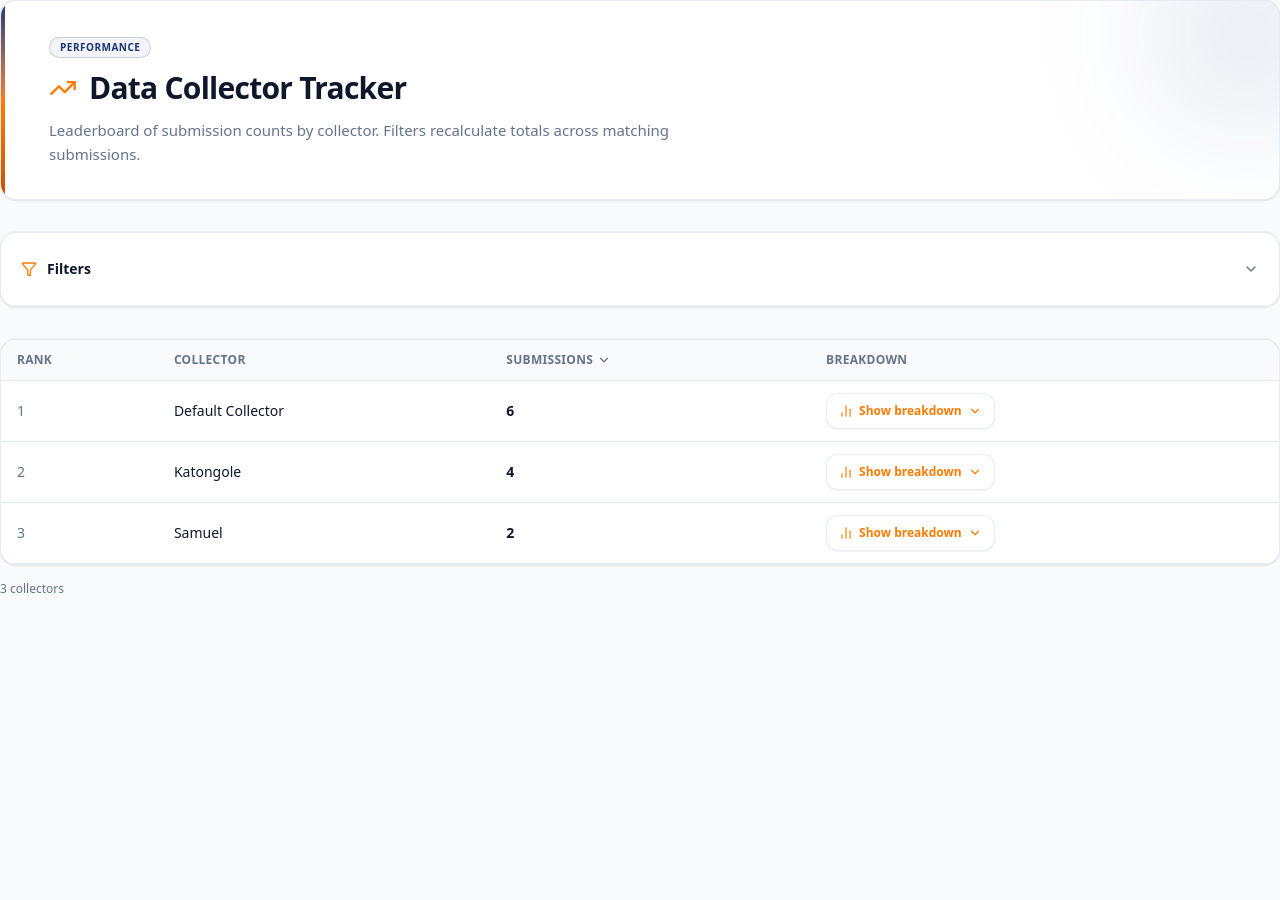
CollectorTrackerPage › shows form type and district breakdown when a row is expanded (TC-DASH-07-03)
The image size is (1280, 900).
Click the button with test id "leaderboard-expand-collector-1" at (910, 411), box [826, 393, 995, 429]
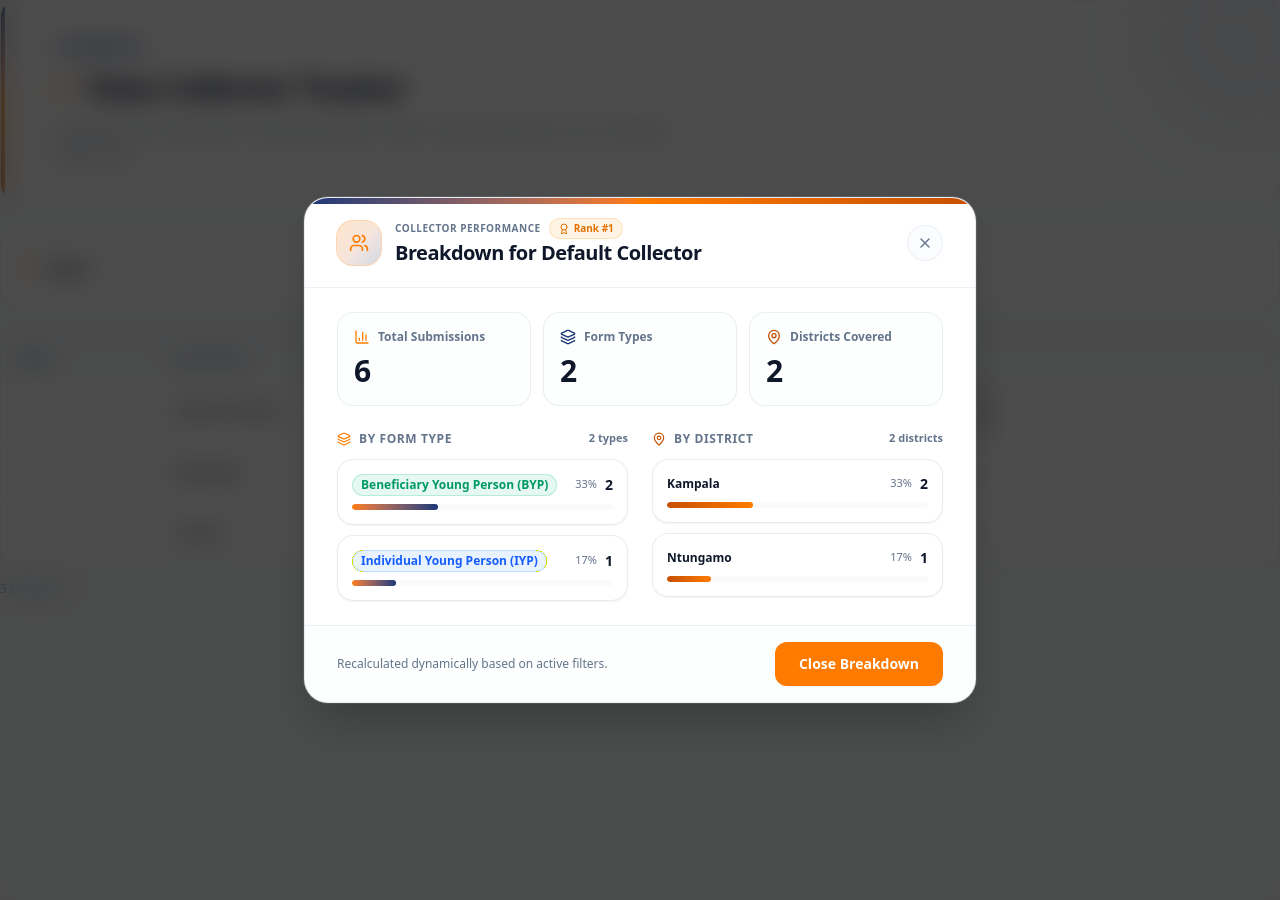
Now the element with test id "collector-breakdown-panel" is shown, box [304, 197, 976, 703]
Now the list item with test id "breakdown-form-type-BYP" shows "2", box [605, 475, 613, 494]
Now the list item with test id "breakdown-district-district-1" shows "Kampala", box [667, 475, 720, 492]
